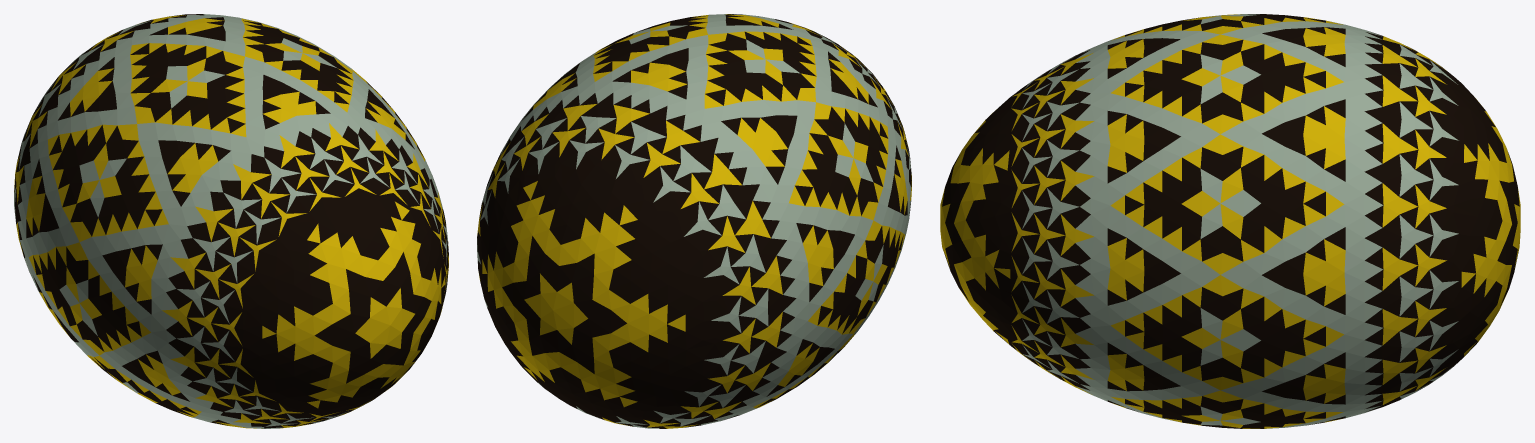
The model's file is EggCombined.obj.
3 views of the same model, side by side, from view 1: azimuth 30°, elevation 25°; view 2: azimuth 150°, elevation 25°; view 3: azimuth 270°, elevation 25° (orthographic). The views are drawn at different scales.
Visible parts, largest first — view 1: BARREL, POINT; view 2: BARREL, END; view 3: BARREL, END, POINT.
Boxes of the visible parts, box(x1,y1,x2,y2) form: BARREL: box(14, 14, 448, 428); POINT: box(225, 179, 446, 417); BARREL: box(477, 14, 911, 428); END: box(478, 152, 729, 421); BARREL: box(1011, 14, 1459, 428); END: box(1442, 71, 1520, 373); POINT: box(940, 92, 1028, 351).
Bounding box in the file's own units: 9.17 × 9.18 × 12.82.
Materials: 3 (3 with a texture image).
